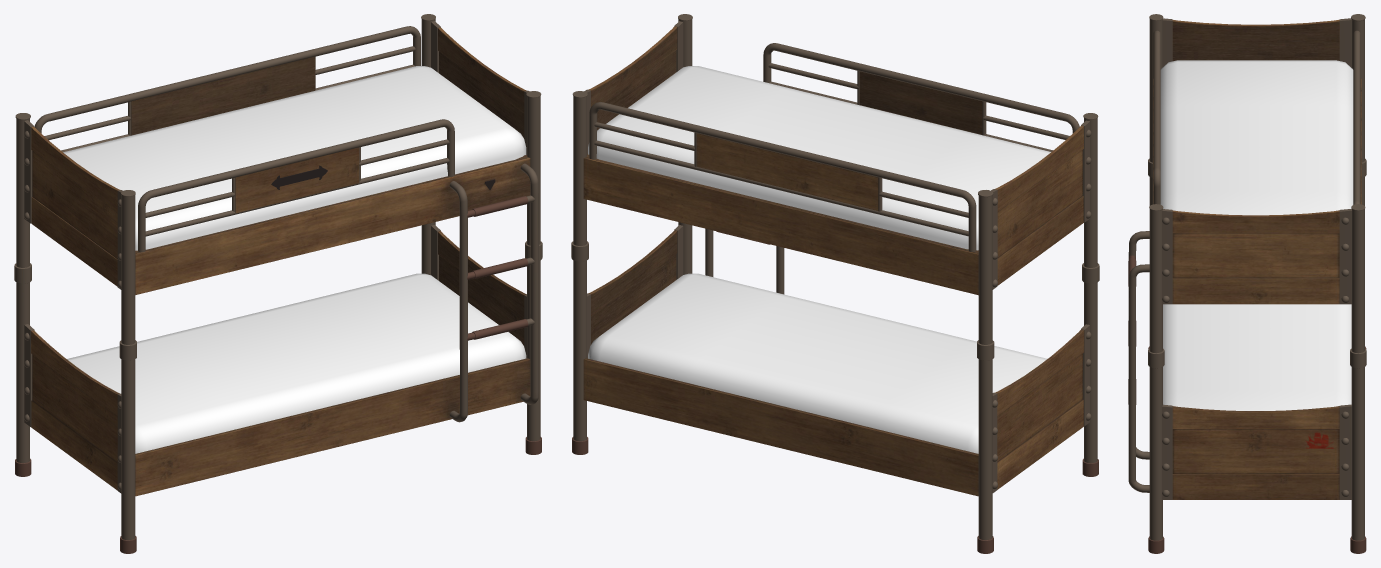
The picture shows the model from 3 angles, left to right: view 1: azimuth 30°, elevation 25°; view 2: azimuth 150°, elevation 25°; view 3: azimuth 270°, elevation 25°; orthographic projection. The views are drawn at different scales.
Visible parts, largest first — view 1: fabric, wood, metal; view 2: fabric, wood, metal; view 3: fabric, wood, metal.
Boxes of the visible parts, x1,y1,x2,y2 form: fabric: (63,66,526,453); wood: (31,27,530,496); metal: (14,14,542,553); fabric: (588,66,1050,453); wood: (583,26,1084,496); metal: (571,14,1099,553); fabric: (1160,60,1353,410); wood: (1153,19,1361,499); metal: (1128,14,1366,553).
Size of the model in its own units: 2.07 by 1.68 by 1.06.
Materials: 3 (3 with a texture image).
